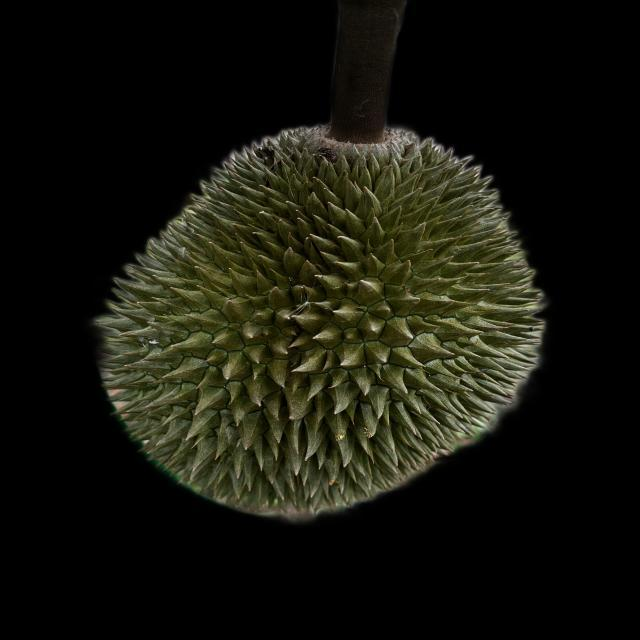immature: (91, 130, 546, 514)
